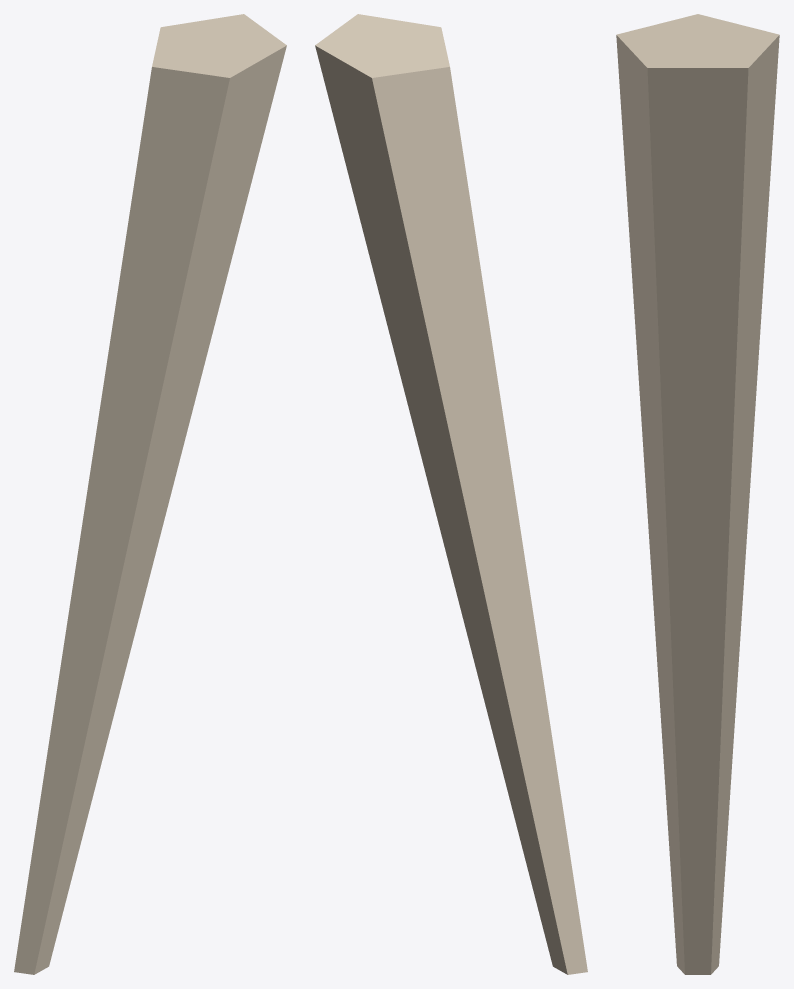
Rendered from Pata3.fbx.
3 renders of one model, left to right at view 1: azimuth 30°, elevation 25°; view 2: azimuth 150°, elevation 25°; view 3: azimuth 270°, elevation 25°, orthographic. The views are drawn at different scales.
Visible parts, largest first — view 1: Pata3; view 2: Pata3; view 3: Pata3.
Boxes of the visible parts, x1=… form: Pata3: x1=14, y1=14, x2=286, y2=974; Pata3: x1=315, y1=14, x2=587, y2=974; Pata3: x1=616, y1=14, x2=779, y2=974.
Size of the model in its own units: 4.11 by 13.76 by 1.96.
